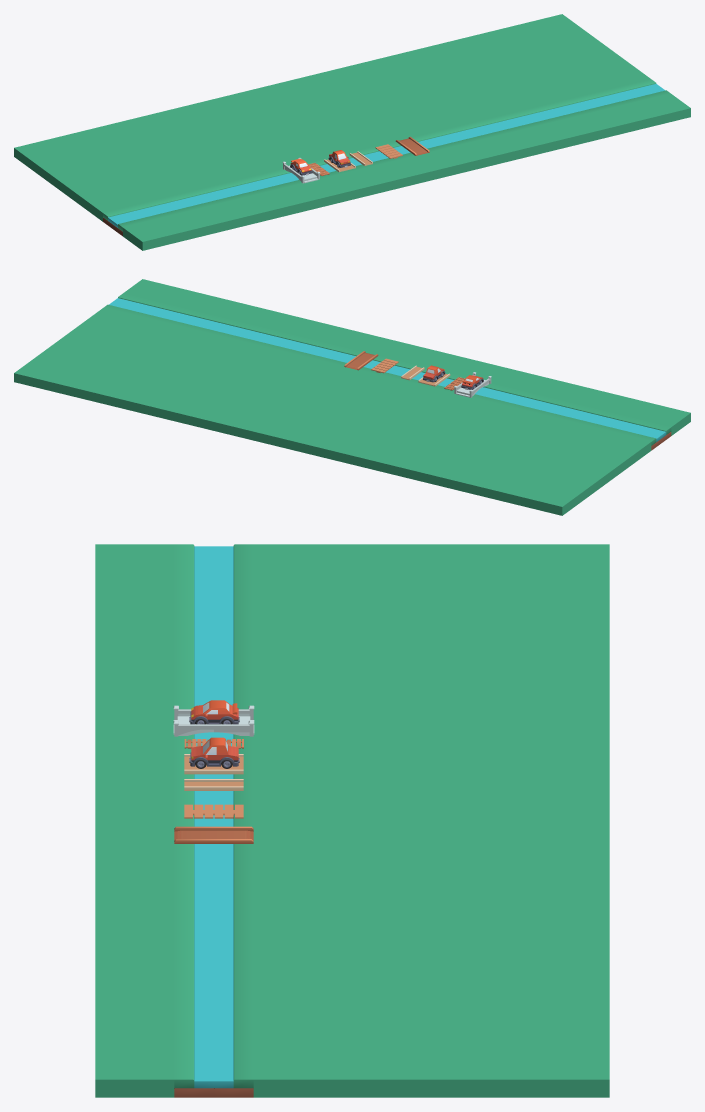
The model's file is world.glb.
3 views of the same model, one above another, from view 1: azimuth 30°, elevation 25°; view 2: azimuth 150°, elevation 25°; view 3: azimuth 270°, elevation 25° (orthographic). The views are drawn at different scales.
Parts seen in each view (by area): view 1: square_forest11; view 2: square_forest; view 3: square_forest343, square_forest348, square_forest351, square_forest342, square_forest344, square_forest345, square_forest346, square_forest347, square_forest349, square_forest350, square_forest352, square_forest_waterStraight63 (+4 smaller).
Boxes of the visible parts, <box> form: square_forest11: <box>132,230,159,250</box>; square_forest: <box>545,495,572,515</box>; square_forest343: <box>530,1063,570,1097</box>; square_forest348: <box>332,1063,372,1097</box>; square_forest351: <box>134,1063,174,1097</box>; square_forest342: <box>570,1063,609,1097</box>; square_forest344: <box>491,1063,530,1097</box>; square_forest345: <box>451,1063,490,1097</box>; square_forest346: <box>412,1063,451,1097</box>; square_forest347: <box>372,1063,411,1097</box>; square_forest349: <box>293,1063,332,1097</box>; square_forest350: <box>253,1063,292,1097</box>; square_forest352: <box>95,1063,134,1097</box>; square_forest_waterStraight63: <box>214,1063,253,1097</box>.
Size of the model in its own units: 64 by 2.37 by 26.
13 materials, 6 textured.
